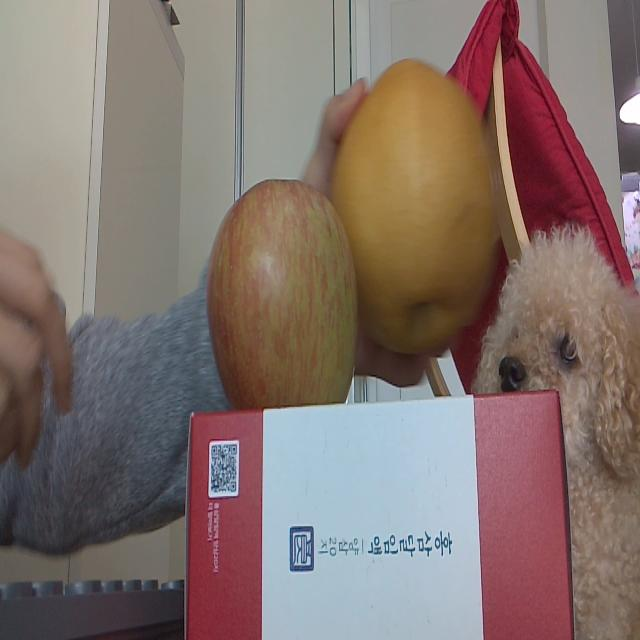apple: (211, 182, 355, 407)
pear: (332, 60, 498, 350)
